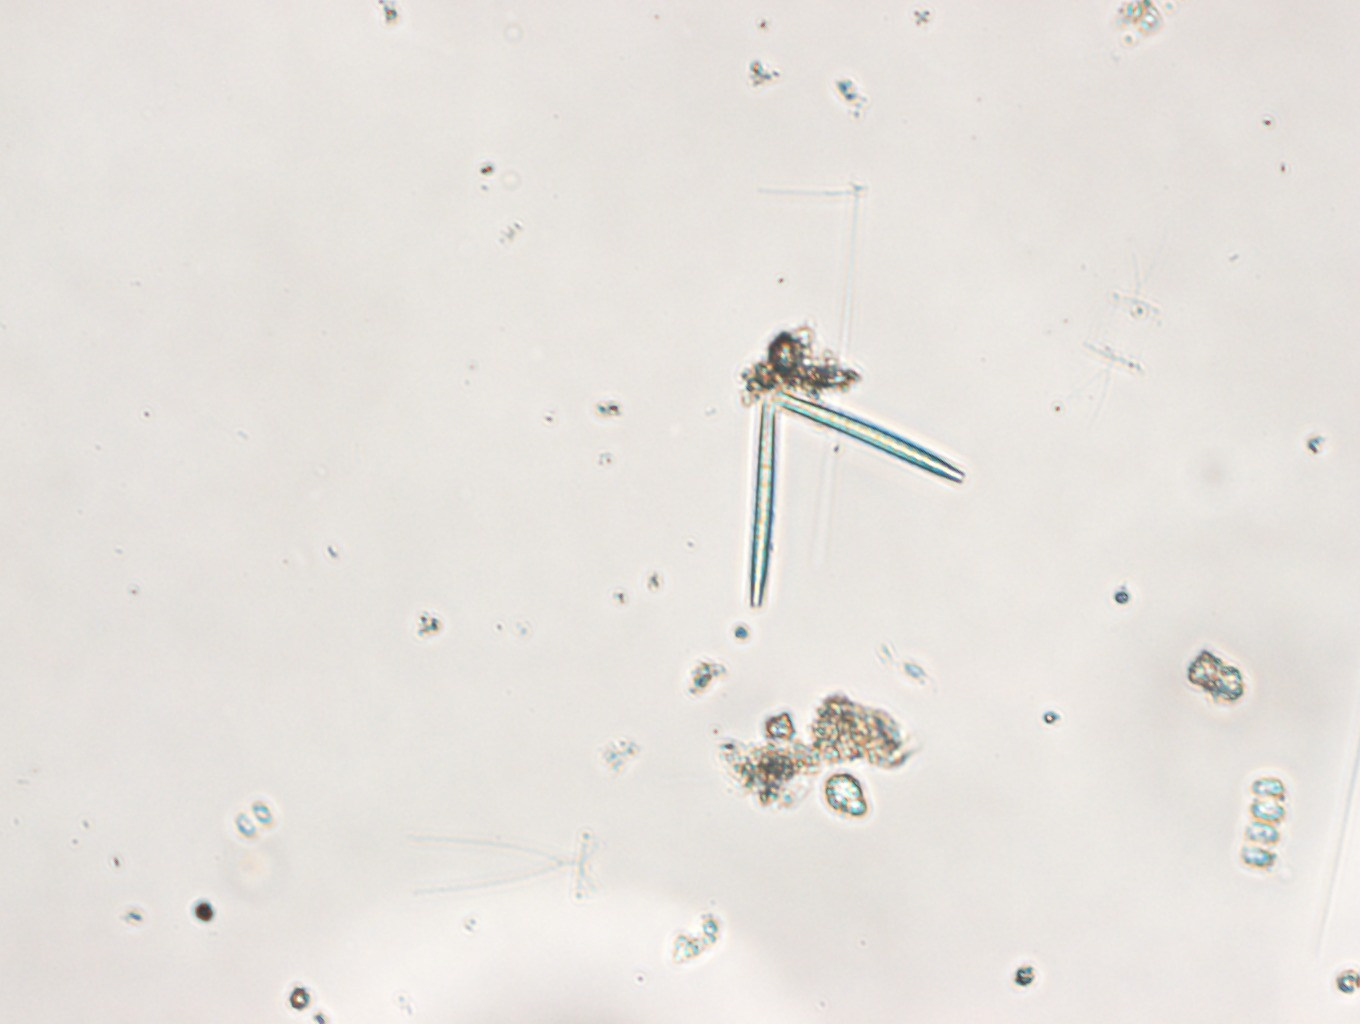thalassionema frauenfeldii: (744, 388, 968, 607)
